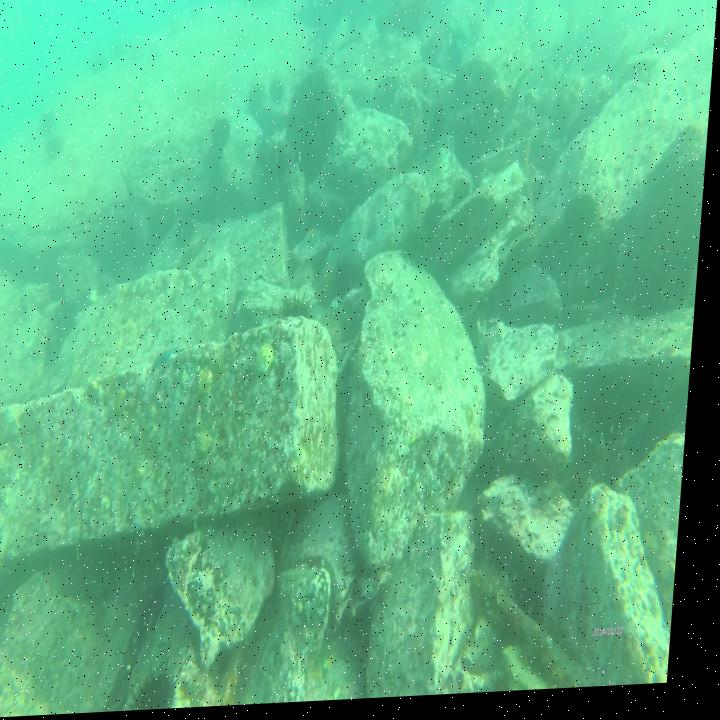echinus: (133, 653, 193, 713), (278, 287, 325, 334), (254, 133, 282, 175), (177, 209, 202, 256), (213, 117, 236, 161), (41, 131, 68, 165), (246, 81, 269, 117), (269, 76, 290, 112), (88, 48, 109, 83), (165, 15, 183, 50), (38, 108, 60, 136), (127, 41, 144, 75), (109, 34, 127, 65), (188, 0, 205, 26)
scallop: (258, 342, 283, 379), (200, 365, 221, 403)
starfish: (154, 342, 191, 375)
